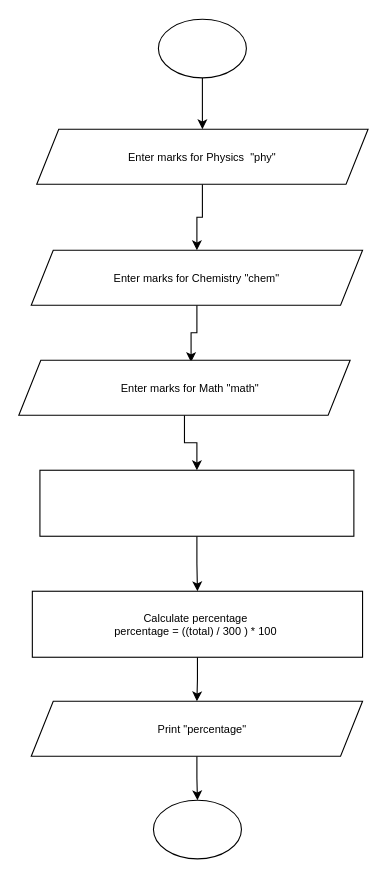
Some shapes in this 388 by 879 pixel diagram are drawn without their labels. Here are the shapes that lost their labels. From the top down, the centre of each, then its label:
At (201,48): "Start".
At (196,502): "Calculate total obtained total = phy + chem + math".
At (196,829): "Stop".
